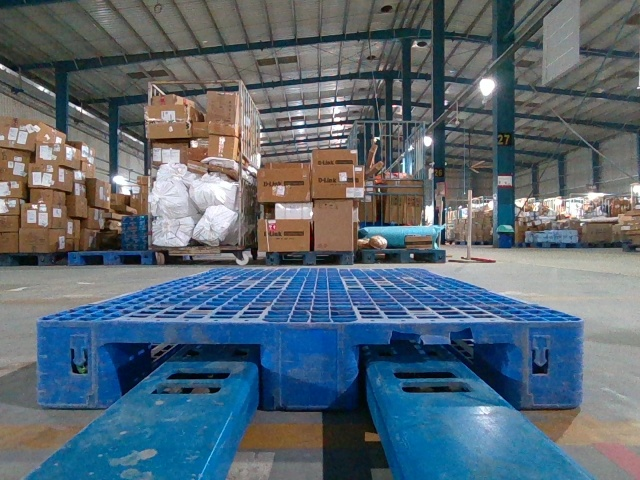block: (262, 318, 362, 412), (33, 319, 103, 410), (516, 318, 584, 407)
front: (37, 320, 583, 407)
hole pallet: (350, 337, 515, 411), (103, 339, 260, 407)
